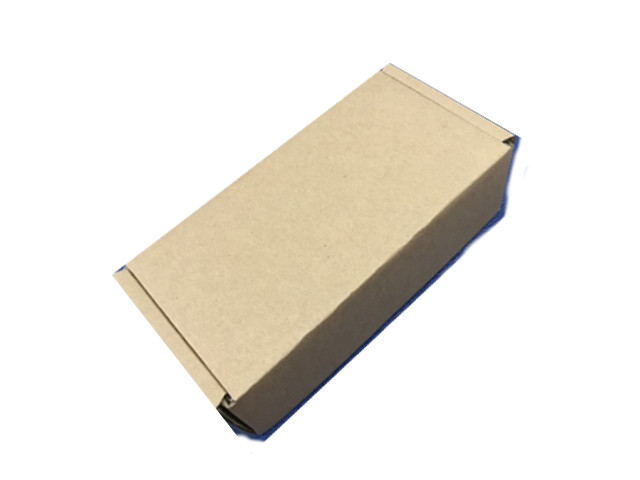cardboard: (115, 63, 516, 433)
